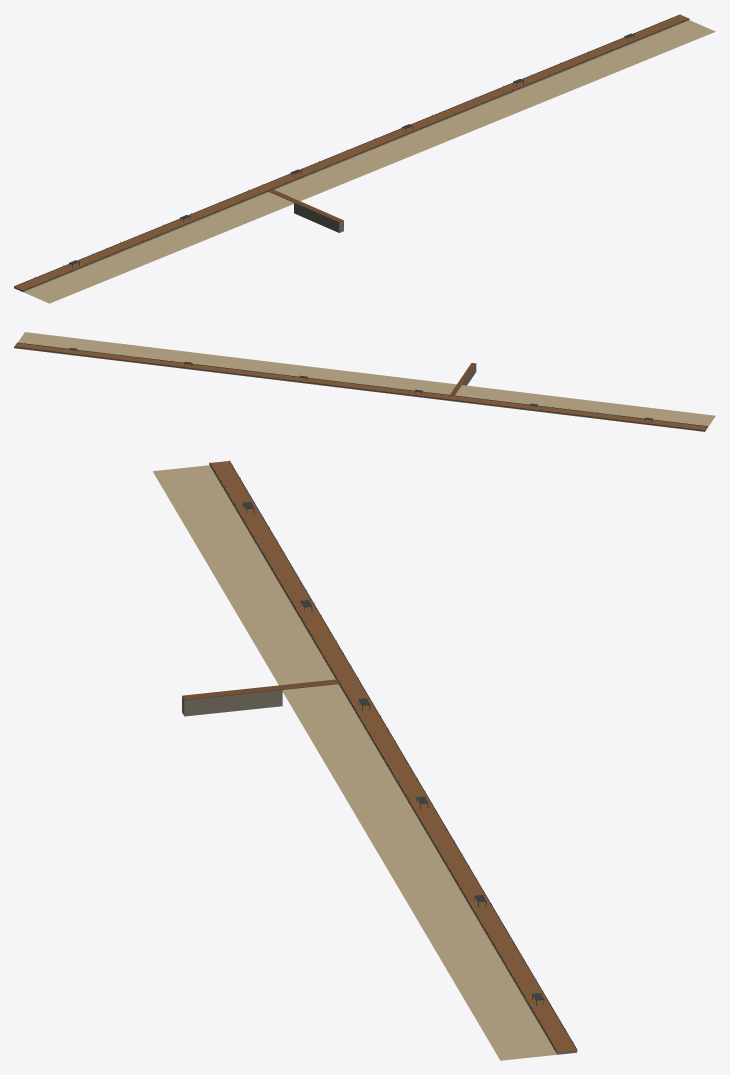
3 renders of one model, top to bottom at view 1: azimuth 30°, elevation 25°; view 2: azimuth 150°, elevation 25°; view 3: azimuth 270°, elevation 25°, orthographic. The views are drawn at different scales.
Parts seen in each view (by area): view 1: coney-island-boardwalk-lod0; view 2: coney-island-boardwalk-lod0; view 3: coney-island-boardwalk-lod0.
Boxes of the visible parts, left/top/right/bottom form: coney-island-boardwalk-lod0: left=14, top=14, right=715, bottom=303; coney-island-boardwalk-lod0: left=14, top=332, right=715, bottom=431; coney-island-boardwalk-lod0: left=153, top=460, right=577, bottom=1060.
Size of the model in its own units: 2656 by 46.69 by 798.
